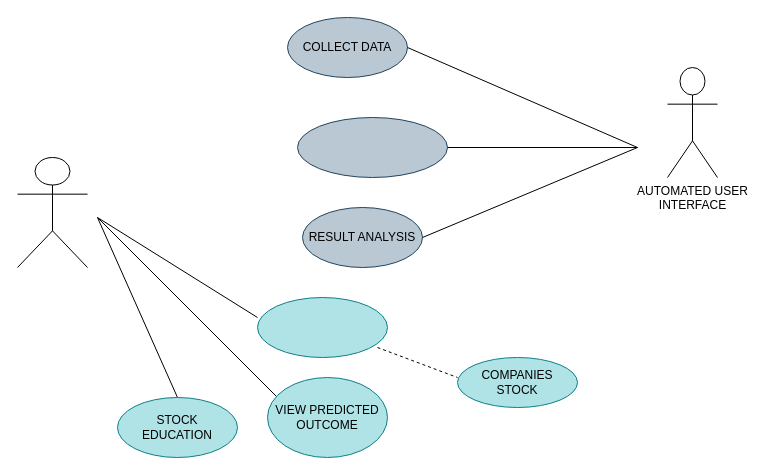
Some shapes in this 765 by 475 pixel diagram are drawn without their labels. Each missing label, with the box of its shape:
COMPUTE RESULT AND PERFORMANCE: (296, 116, 448, 178)
USER: (16, 156, 88, 268)
VIEW TRADE EXCHANGE: (256, 296, 388, 358)
